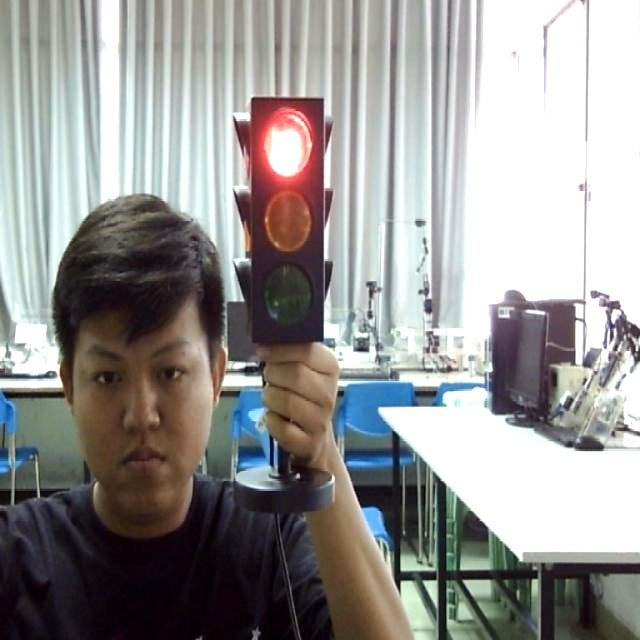Red: (234, 96, 340, 346)
